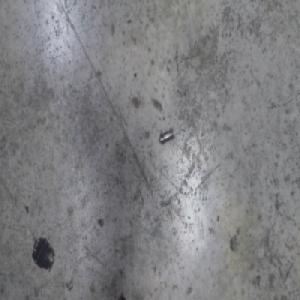Bolt: (159, 125, 174, 144)
